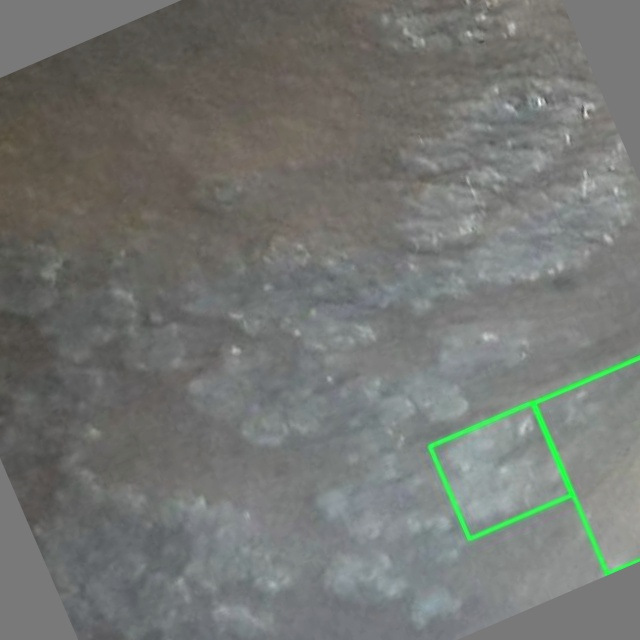Seborrheic Dermatitis: (429, 402, 572, 538)
